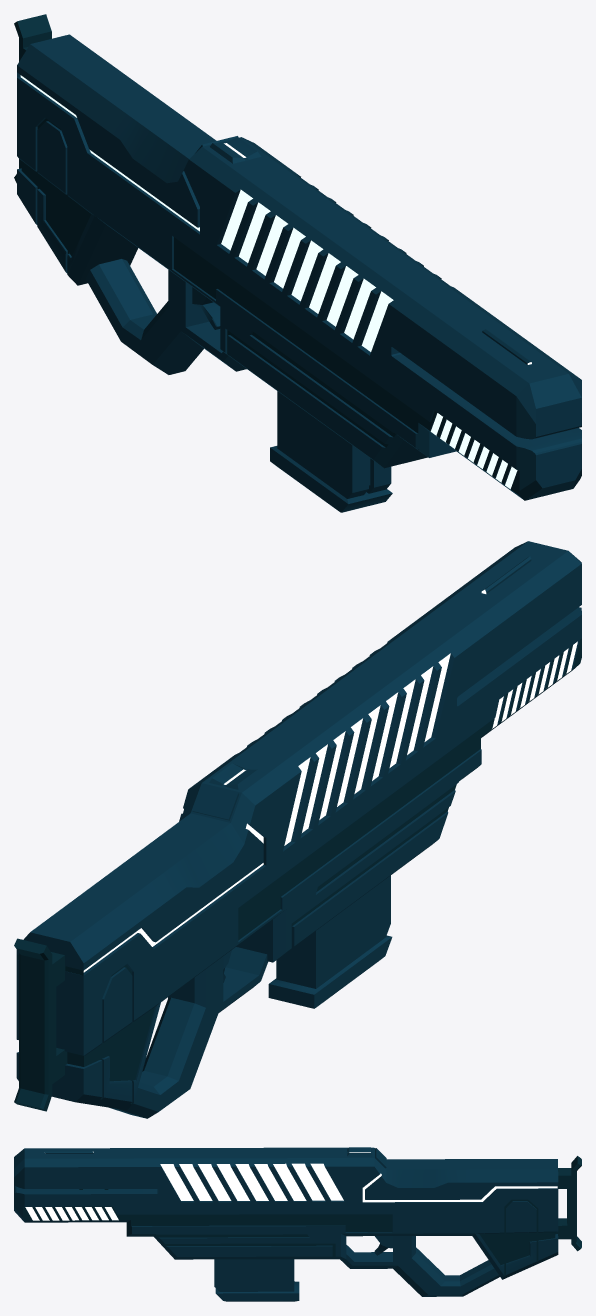
The model's file is SpaceGun.fbx.
3 renders of one model, top to bottom at view 1: azimuth 30°, elevation 25°; view 2: azimuth 150°, elevation 25°; view 3: azimuth 270°, elevation 25°, orthographic. The views are drawn at different scales.
Visible parts, largest first — view 1: Arma, Cargador 5, Cargador 1, Cargador Correcto, Cargador 2, Cargador 6; view 2: Arma, Cargador 1, Cargador 2, Cargador 5, Cargador Correcto, Cargador 3, Cargador 4; view 3: Arma, Cargador 1, Cargador 5, Cargador 2.
Boxes of the visible parts, x1,y1,x2,y2 form: Arma: (14,14,581,500); Cargador 5: (270,404,392,512); Cargador 1: (270,391,388,509); Cargador Correcto: (280,407,352,491); Cargador 2: (270,421,373,512); Cargador 6: (277,391,352,482); Arma: (14,541,581,1118); Cargador 1: (268,875,391,1008); Cargador 2: (269,881,390,1008); Cargador 5: (270,882,392,994); Cargador Correcto: (316,877,389,978); Cargador 3: (316,876,390,975); Cargador 4: (316,894,383,976); Arma: (14,1147,581,1296); Cargador 1: (214,1259,299,1301); Cargador 5: (214,1259,296,1301); Cargador 2: (216,1259,297,1301).
Bounding box in the file's own units: 19.36 × 71.16 × 251.
